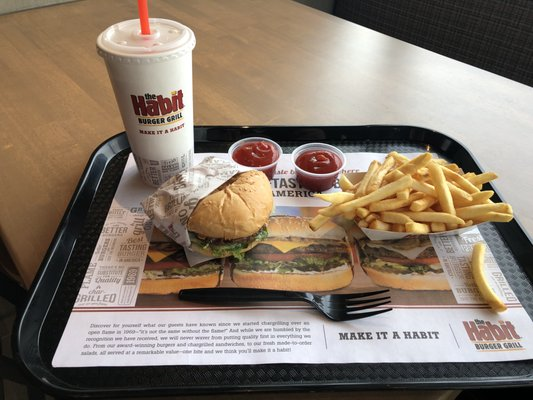sandwich: (179, 287, 392, 322)
sushi: (291, 143, 346, 192), (229, 137, 282, 180)
